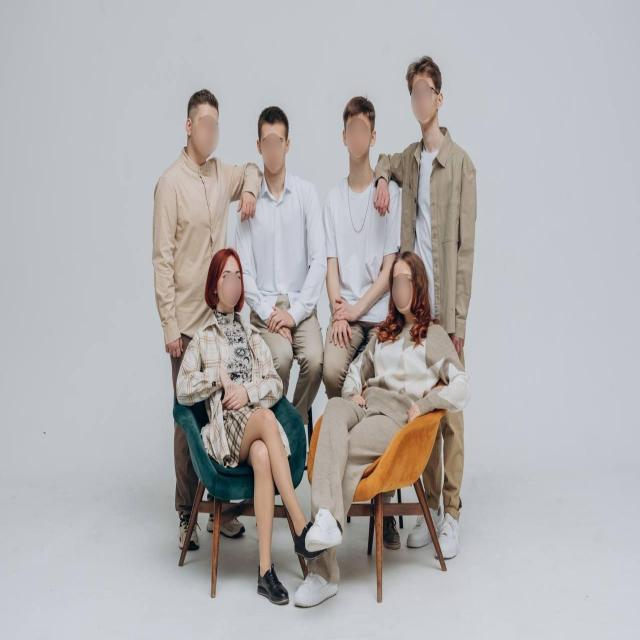Person: (297, 255, 469, 629), (172, 244, 306, 599), (153, 87, 259, 345), (383, 42, 493, 276), (317, 75, 393, 370), (241, 95, 319, 316)
